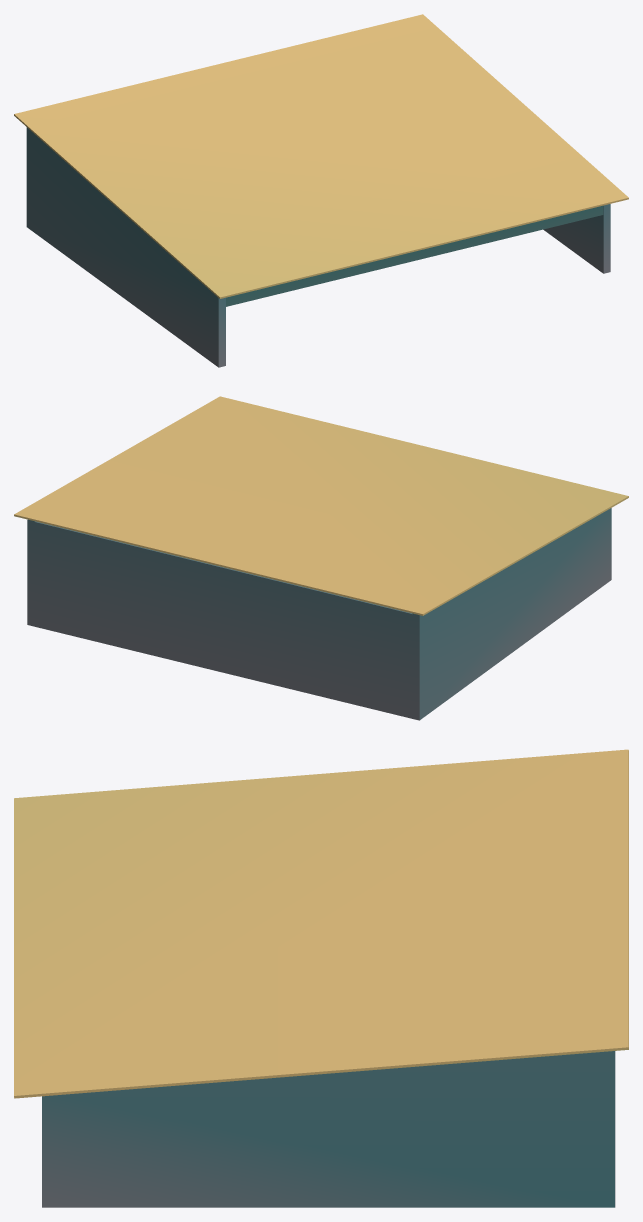
The picture shows the model from 3 angles, top to bottom: view 1: azimuth 30°, elevation 25°; view 2: azimuth 150°, elevation 25°; view 3: azimuth 270°, elevation 25°; orthographic projection. The views are drawn at different scales.
Parts seen in each view (by area): view 1: slab, panel, rail, panel.001; view 2: slab, panel.002, panel; view 3: slab, panel.001.
Boxes of the visible parts, x1,y1,x2,y2 form: slab: (14, 14, 628, 298); panel: (26, 127, 225, 367); rail: (226, 205, 603, 306); panel.001: (543, 204, 610, 273); slab: (14, 396, 628, 615); panel.002: (27, 520, 419, 720); panel: (412, 508, 611, 719); slab: (14, 749, 628, 1098); panel.001: (42, 1051, 614, 1207).
Size of the model in its own units: 3 by 0.783 by 2.62.
